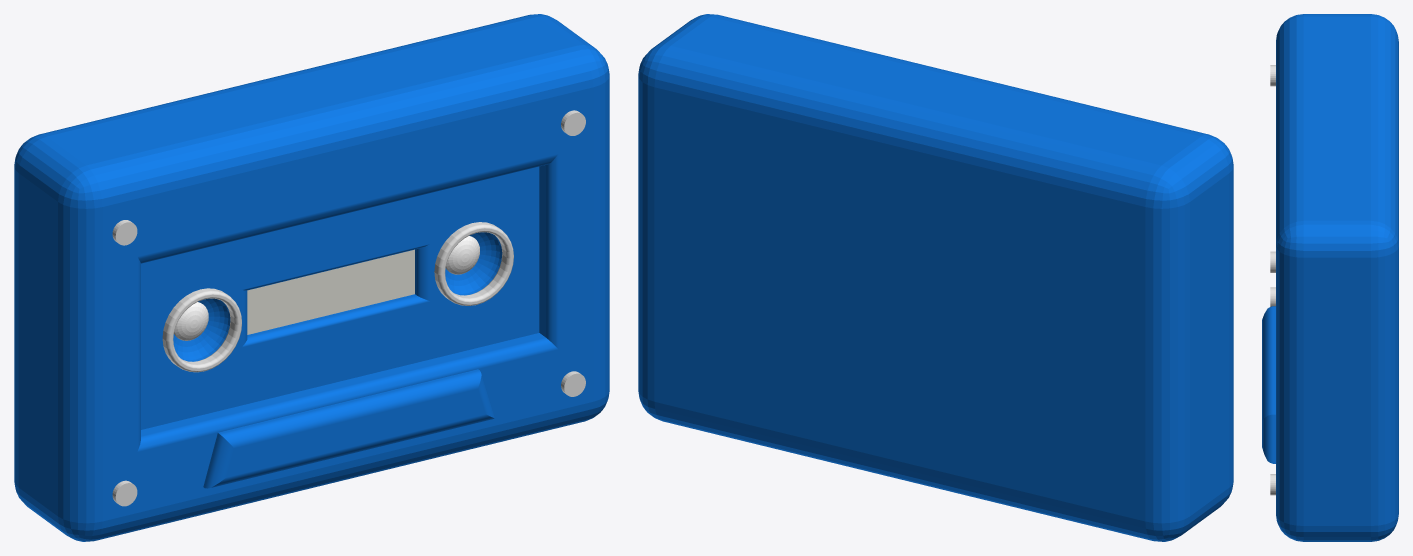
The model's file is tape.glb.
3 renders of one model, left to right at view 1: azimuth 30°, elevation 25°; view 2: azimuth 150°, elevation 25°; view 3: azimuth 270°, elevation 25°, orthographic. The views are drawn at different scales.
Visible parts, largest first — view 1: Cube021, Cube021_1, Cube021_3, Cube021_2, Cube021_4; view 2: Cube021; view 3: Cube021, Cube021_3.
Part boxes in pixels (<box>): Cube021: <box>14,14,609,541</box>; Cube021_1: <box>247,249,414,334</box>; Cube021_3: <box>112,110,585,506</box>; Cube021_2: <box>162,288,241,372</box>; Cube021_4: <box>174,236,479,340</box>; Cube021: <box>638,14,1233,541</box>; Cube021: <box>1262,14,1398,541</box>; Cube021_3: <box>1270,65,1275,495</box>.
Size of the model in its own units: 2 by 1.3 by 0.5073.
